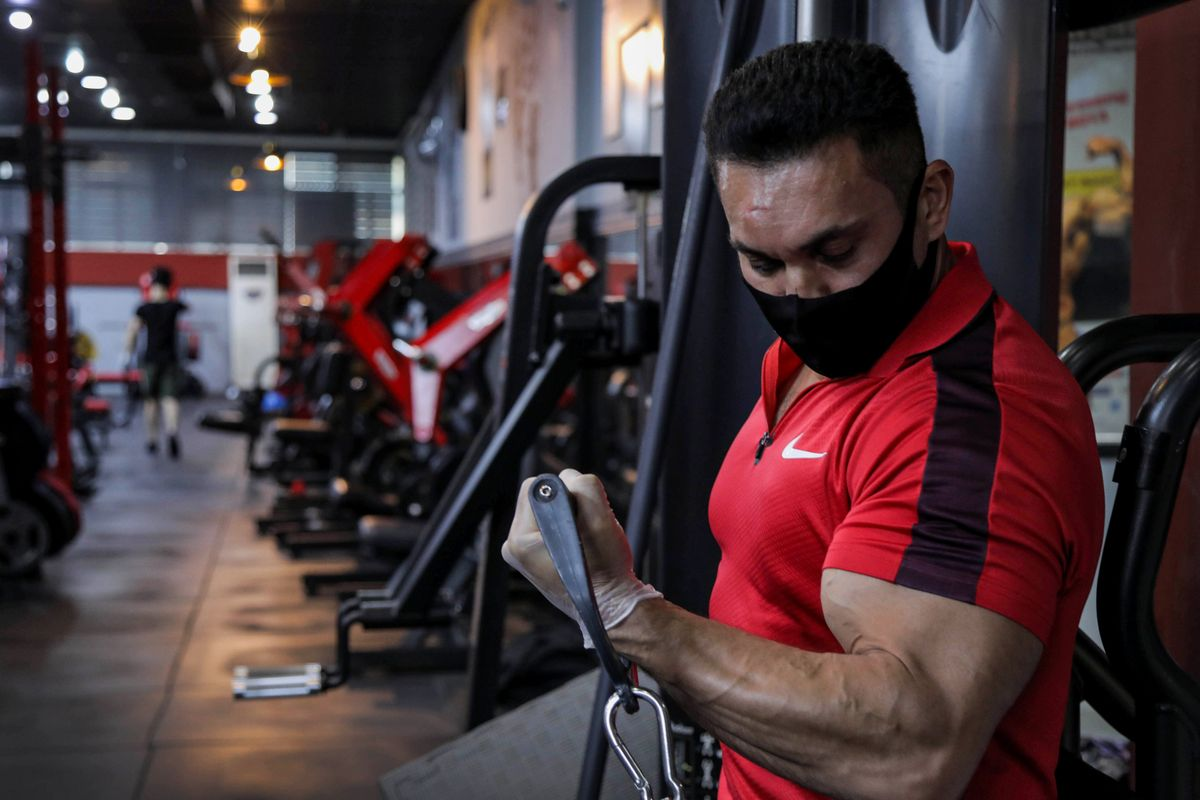with-mask: (703, 63, 974, 377)
